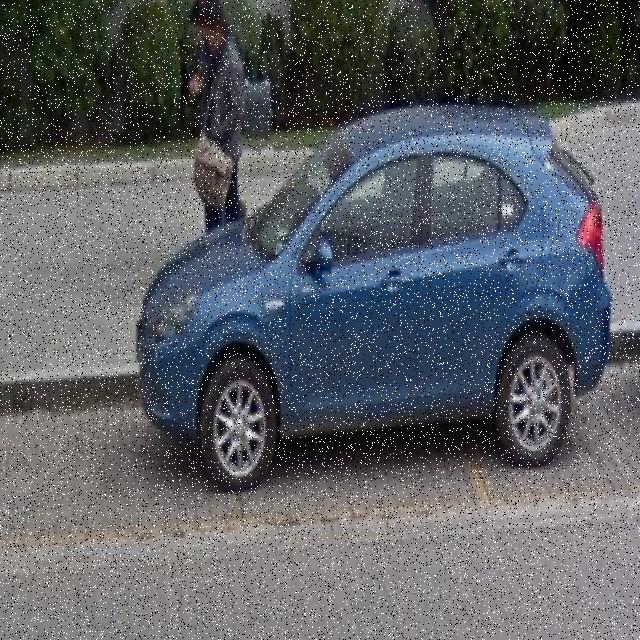cars: (138, 97, 613, 504)
